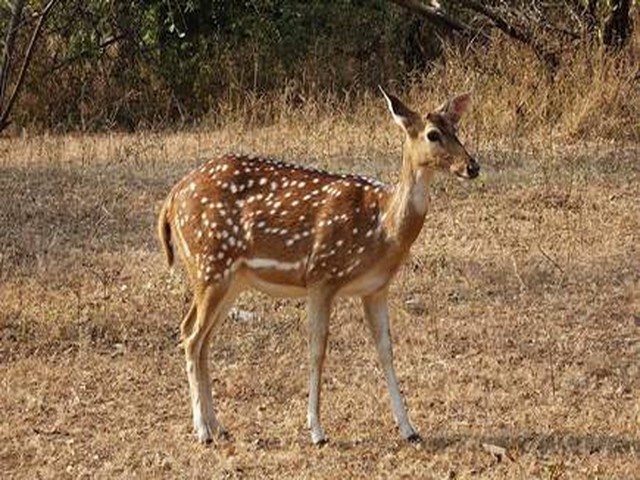deer: (153, 82, 482, 449)
